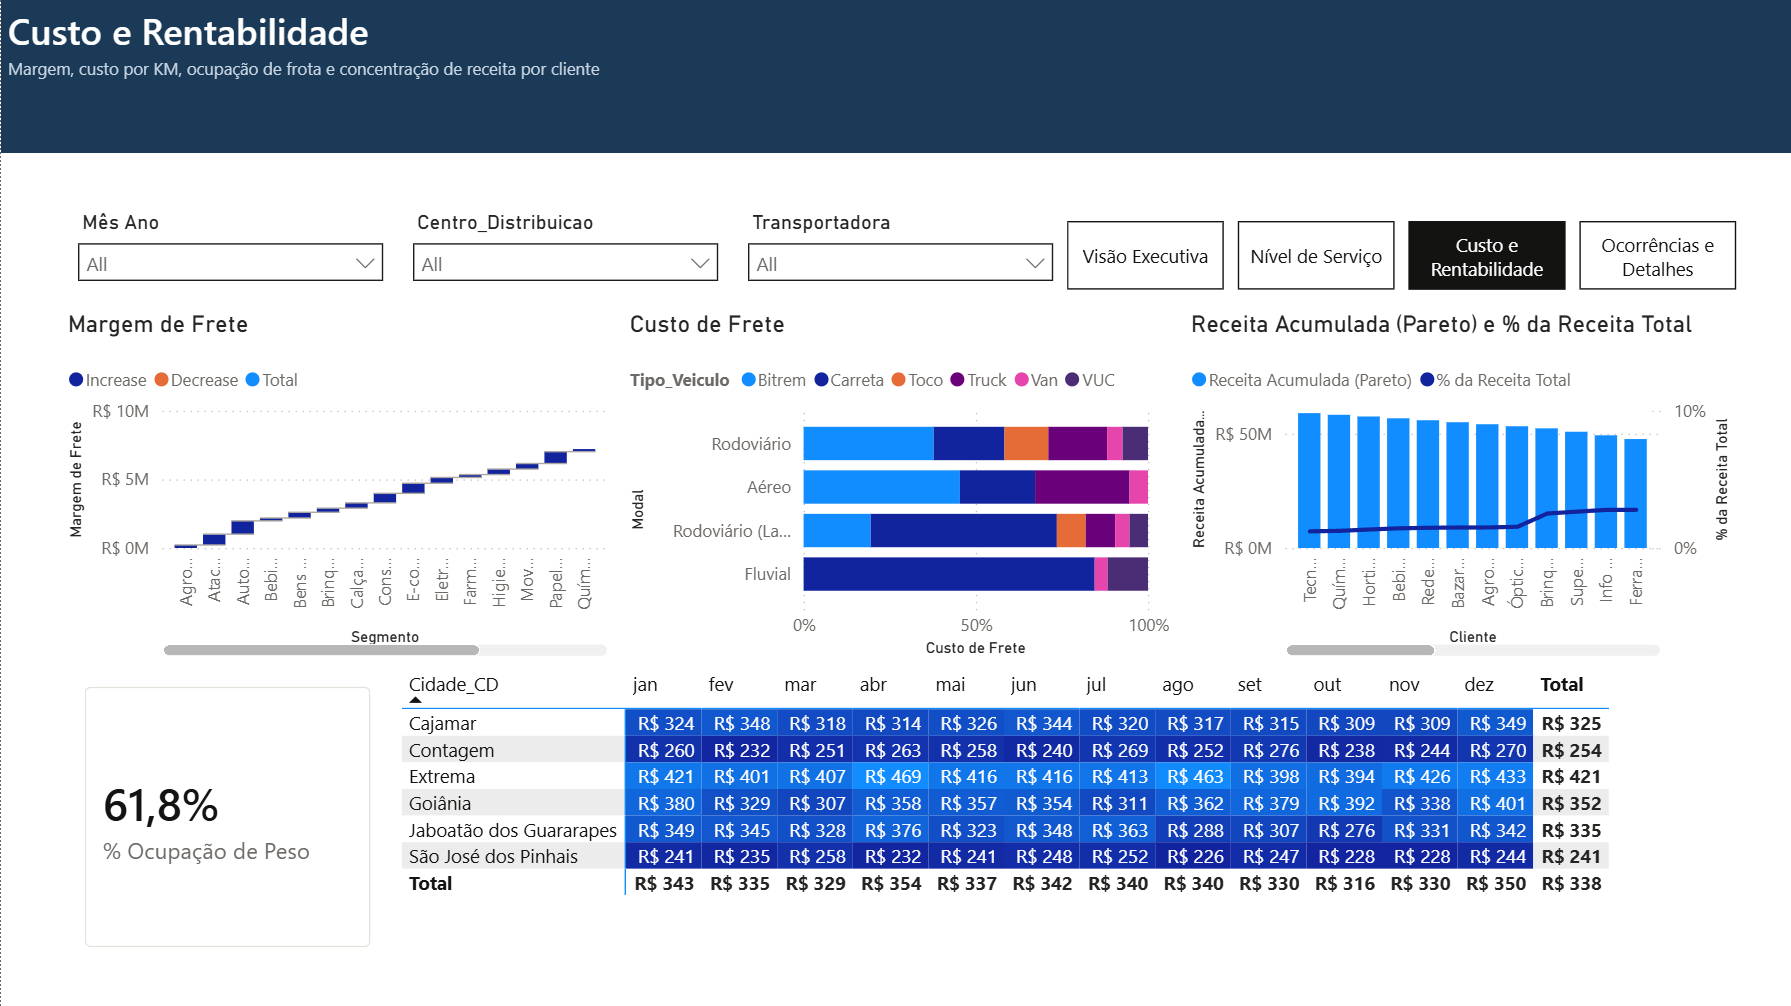

This screenshot's page, from the dashboard's own definition file:
{"tool":"powerbi","page":{"name":"Custo e Rentabilidade","canvas":[1280,720],"ordinal":2},"visuals":[{"type":"pageNavigator","box":[761.5,158.5,478.9,50],"z":0},{"type":"slicer","fields":{"Values":["dCalendario.Mês Ano"]},"box":[44.8,146.4,237.7,75.8],"z":1000},{"type":"slicer","fields":{"Values":["dCentroDistribuicao.Centro_Distribuicao"]},"box":[284.3,146.4,237.7,75.8],"z":2000},{"type":"slicer","fields":{"Values":["dTransportadora.Transportadora"]},"box":[523.7,146.4,237.7,75.8],"z":3000},{"type":"hundredPercentStackedBarChart","title":"Custo de Frete ","fields":{"Category":["dTransportadora.Modal"],"Series":["dVeiculo.Tipo_Veiculo"],"Y":["_Medidas.Custo de Frete"]},"box":[444,222,395,252],"z":4000},{"type":"lineClusteredColumnComboChart","title":"Receita Acumulada (Pareto) e % da Receita Total","fields":{"Category":["dCliente.Cliente"],"Y":["_Medidas.Receita Acumulada (Pareto)"],"Y2":["_Medidas.% da Receita Total"]},"box":[845,222,395,252],"z":5000},{"type":"pivotTable","fields":{"Columns":["dCalendario.Mês"],"Rows":["dCentroDistribuicao.Cidade_CD"],"Values":["_Medidas.Custo por Tonelada"]},"box":[281.4,474,958.6,221.4],"z":6000},{"type":"cardVisual","fields":{"Data":["_Medidas.% Ocupação de Peso"]},"box":[42.9,474,238.6,220],"z":7000},{"type":"waterfallChart","title":"Margem de Frete","fields":{"Category":["dCliente.Segmento"],"Y":["_Medidas.Margem de Frete"]},"box":[43,222,395,252],"z":8000},{"type":"textbox","box":[0,0,1280,110],"z":9000}]}

Visuals, with their boxes in screenshot pixels (x1, y1, x2, y2), scaled from the page's 1280x720 canvas onto the 1791x1006 screenshot:
pageNavigator: rect(1066, 221, 1736, 291)
slicer - dCalendario.Mês Ano: rect(63, 205, 395, 310)
slicer - dCentroDistribuicao.Centro_Distribuicao: rect(398, 205, 730, 310)
slicer - dTransportadora.Transportadora: rect(733, 205, 1065, 310)
"Custo de Frete " hundredPercentStackedBarChart: rect(621, 310, 1174, 662)
"Receita Acumulada (Pareto) e % da Receita Total" lineClusteredColumnComboChart: rect(1182, 310, 1735, 662)
pivotTable - dCalendario.Mês x dCentroDistribuicao.Cidade_CD: rect(394, 662, 1735, 972)
cardVisual - _Medidas.% Ocupação de Peso: rect(60, 662, 394, 970)
"Margem de Frete" waterfallChart: rect(60, 310, 613, 662)
textbox: rect(0, 0, 1790, 154)
